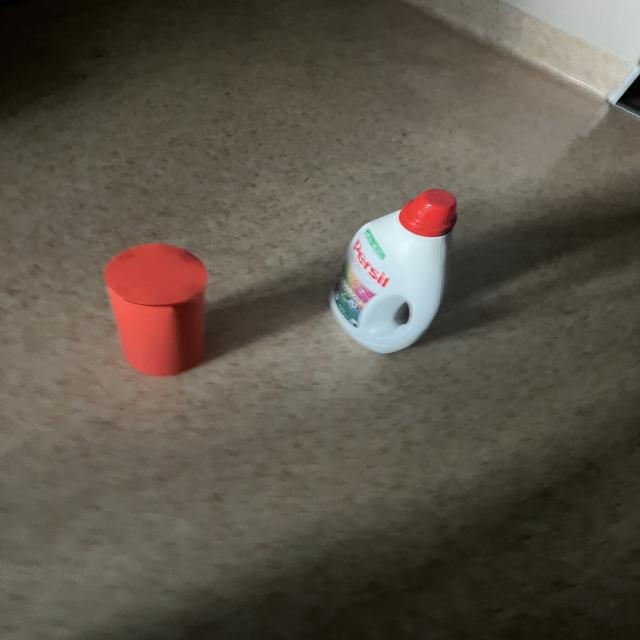przeszkoda: (104, 243, 208, 376)
